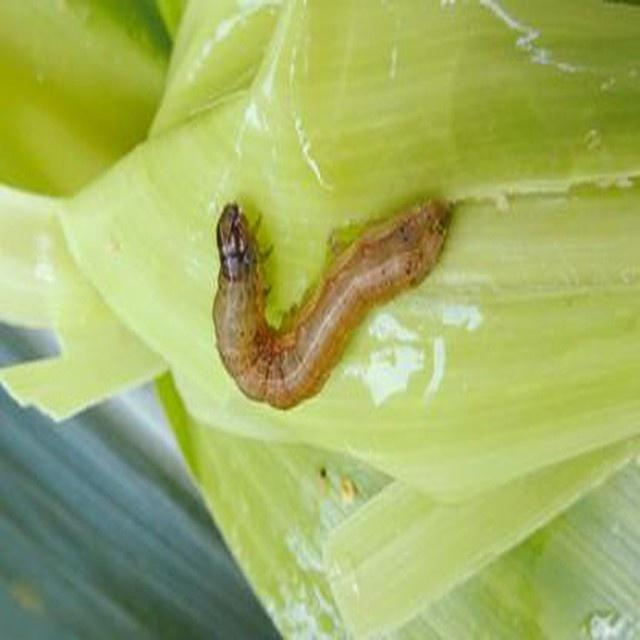gusano_cogollero: (212, 198, 454, 410)
